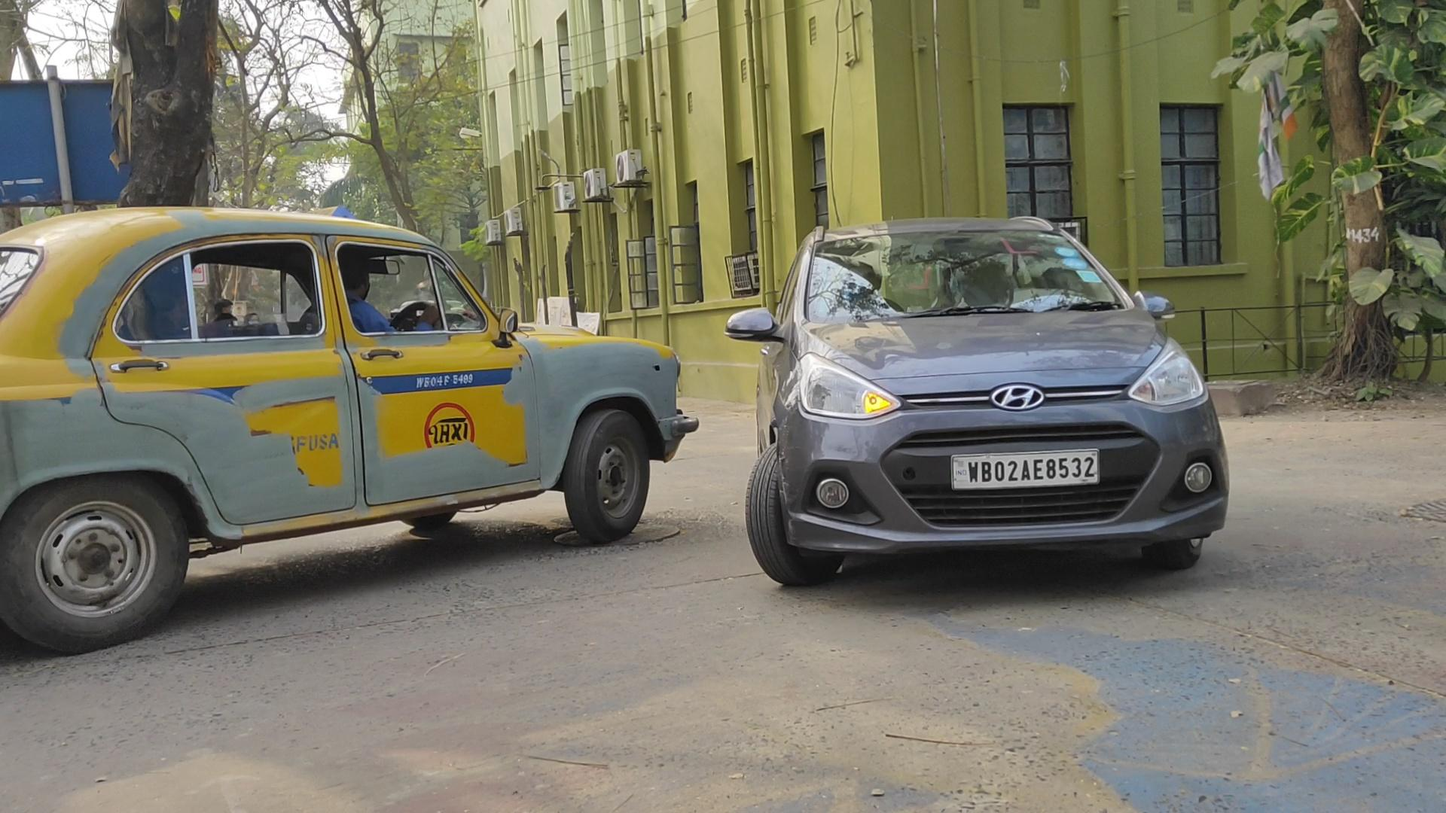car: (1, 206, 698, 656), (723, 213, 1231, 589)
